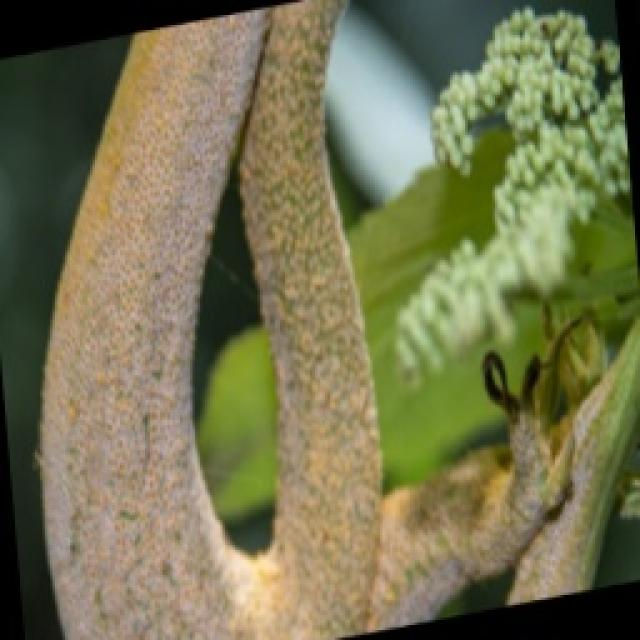Elderberry_rust: (32, 0, 638, 638)
